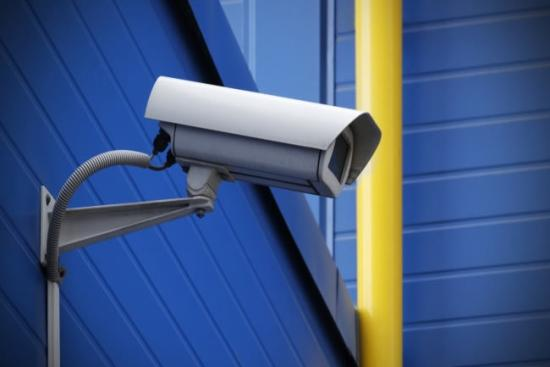camera: (146, 76, 376, 198)
